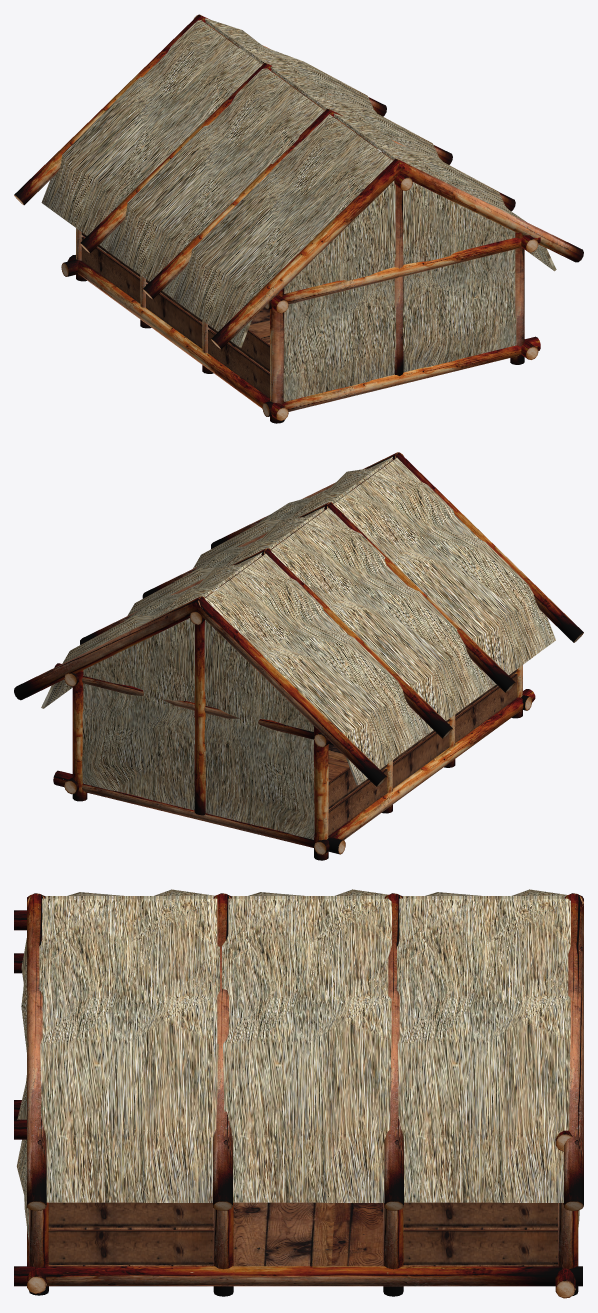
File: storage_1var_combine_ver_001.fbx
3 renders of one model, top to bottom at view 1: azimuth 30°, elevation 25°; view 2: azimuth 150°, elevation 25°; view 3: azimuth 270°, elevation 25°, orthographic. The views are drawn at different scales.
Visible parts, largest first — view 1: storage2; view 2: storage2; view 3: storage2.
Boxes of the visible parts, box(x1,y1,x2,y2) form: storage2: box(14, 14, 583, 423); storage2: box(14, 452, 583, 860); storage2: box(14, 889, 583, 1298).
Bounding box in the file's own units: 172 × 104 × 169.
